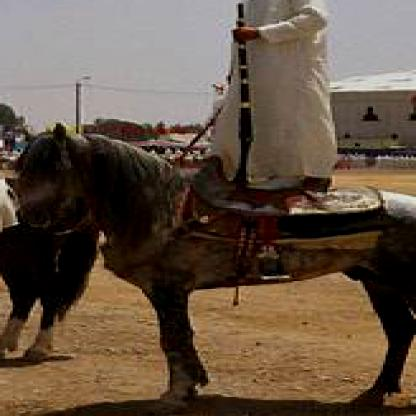horse: (7, 120, 416, 415)
